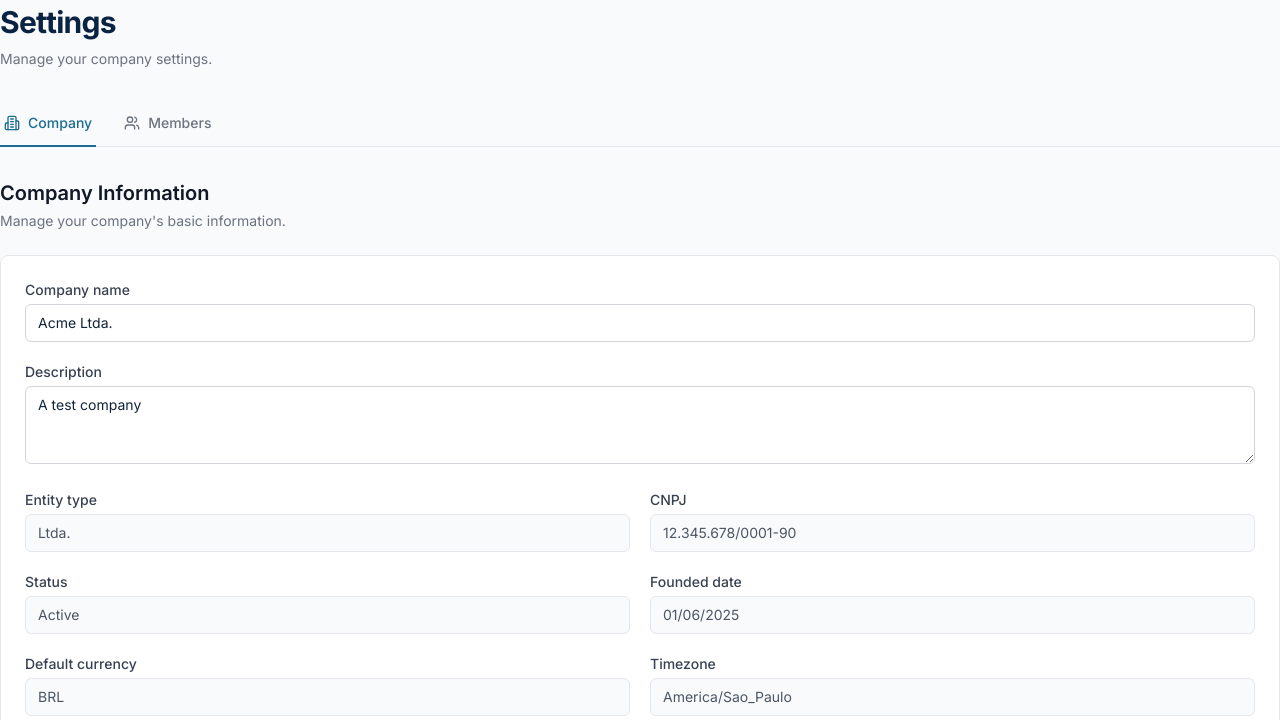
Test: SettingsPage › Members Tab › opens remove dialog
Click the button "Members" at (168, 124), box [120, 101, 216, 147]
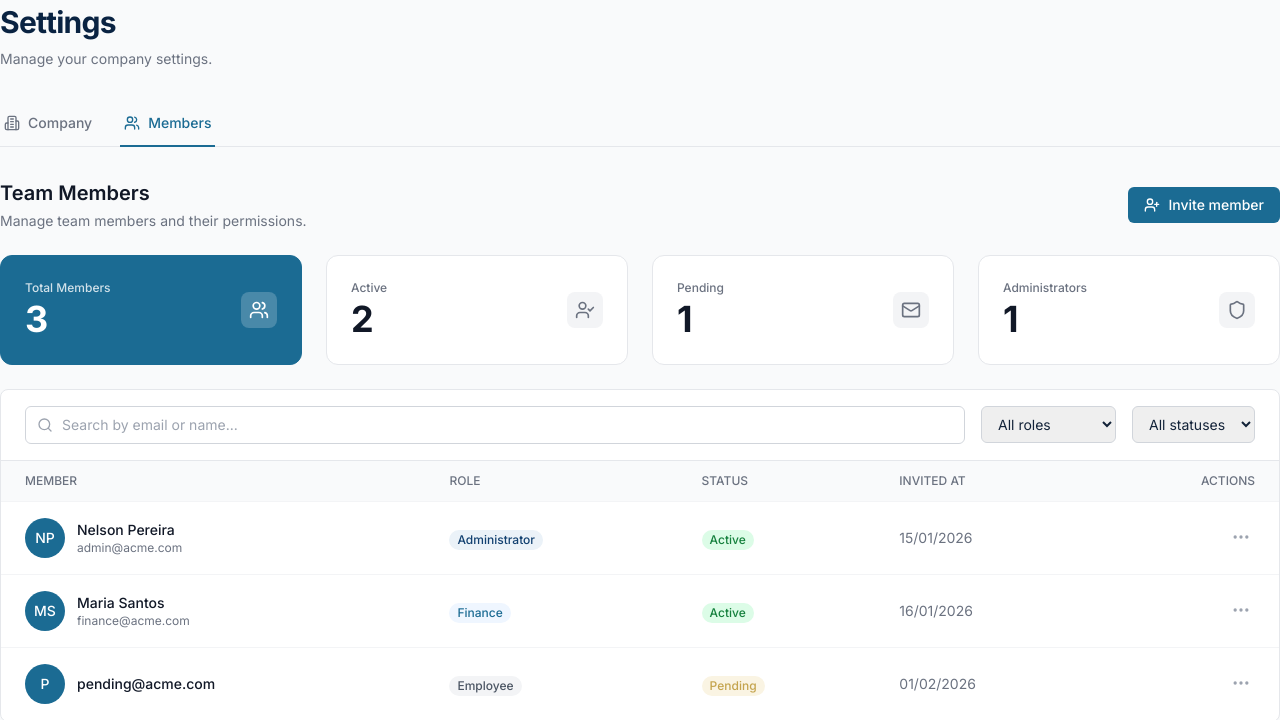
Click the button named "Actions" in the row of "NP" at (1241, 537), box [1227, 523, 1255, 551]
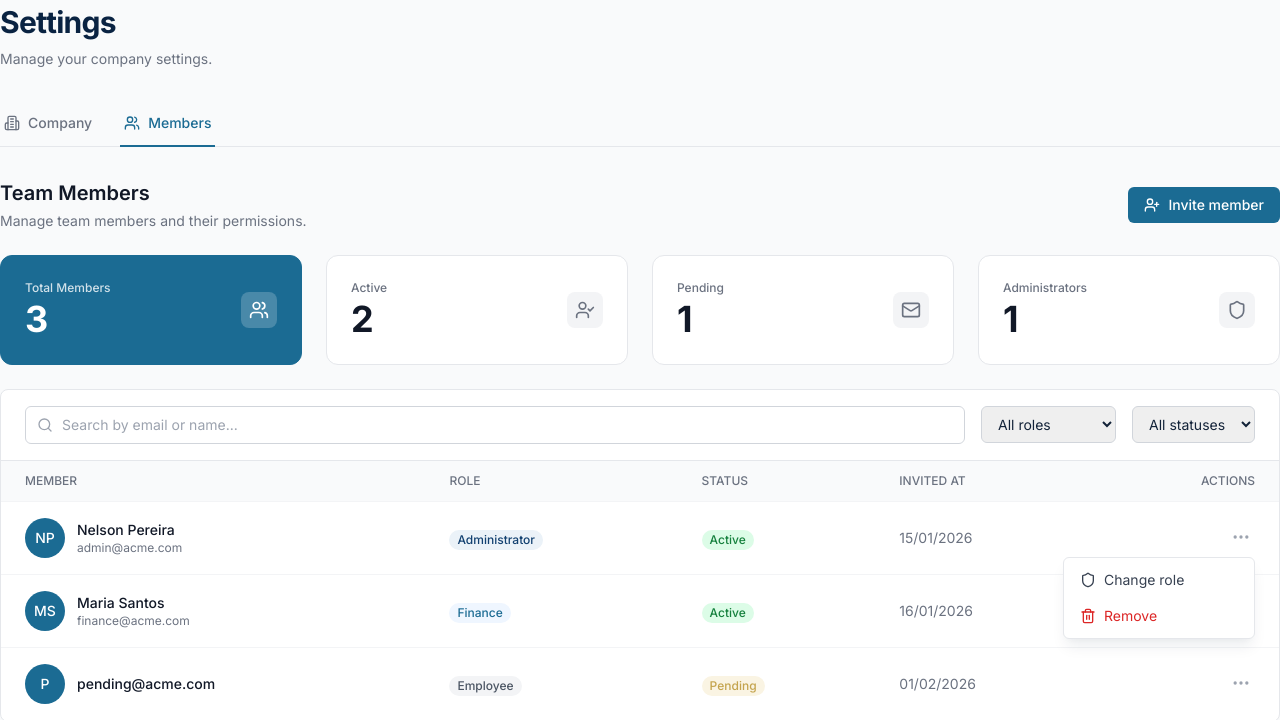
Click the button "Remove" at (1159, 616), box [1064, 598, 1254, 634]
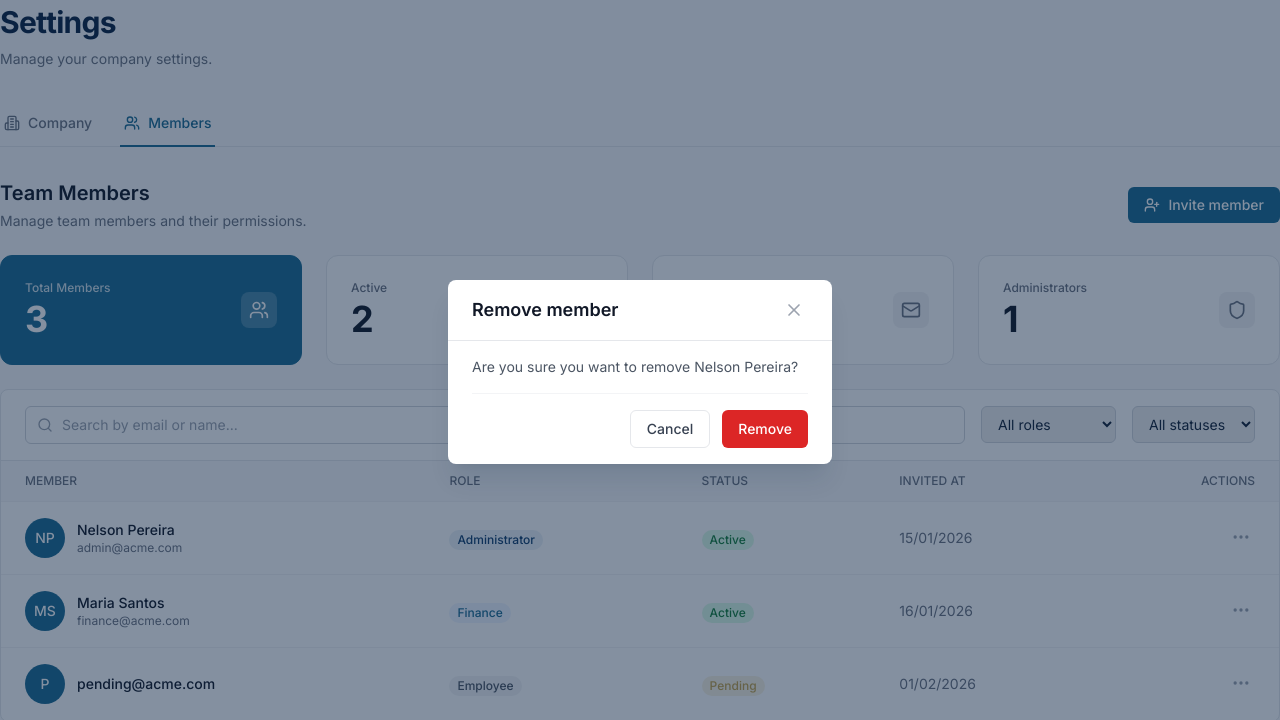
Check: the heading "Remove member" is shown, box [472, 296, 618, 324]
Check: the text "Are you sure you want to remove Nelson Pereira?" is shown, box [472, 357, 808, 377]
